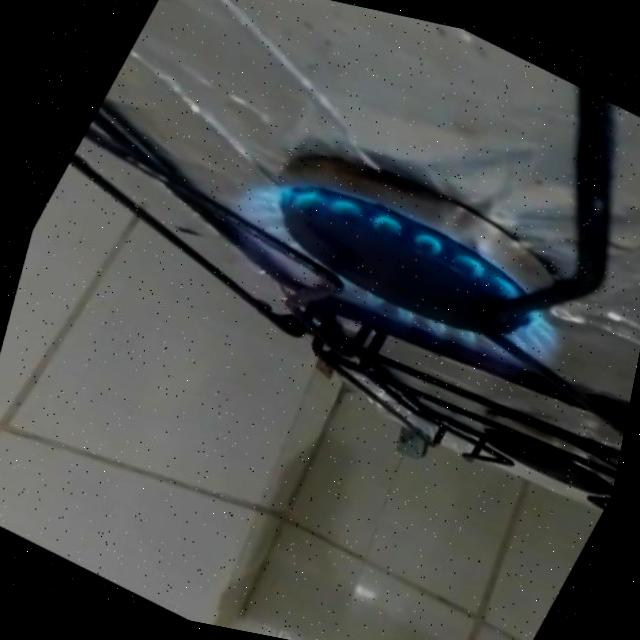fire: (157, 134, 606, 458)
